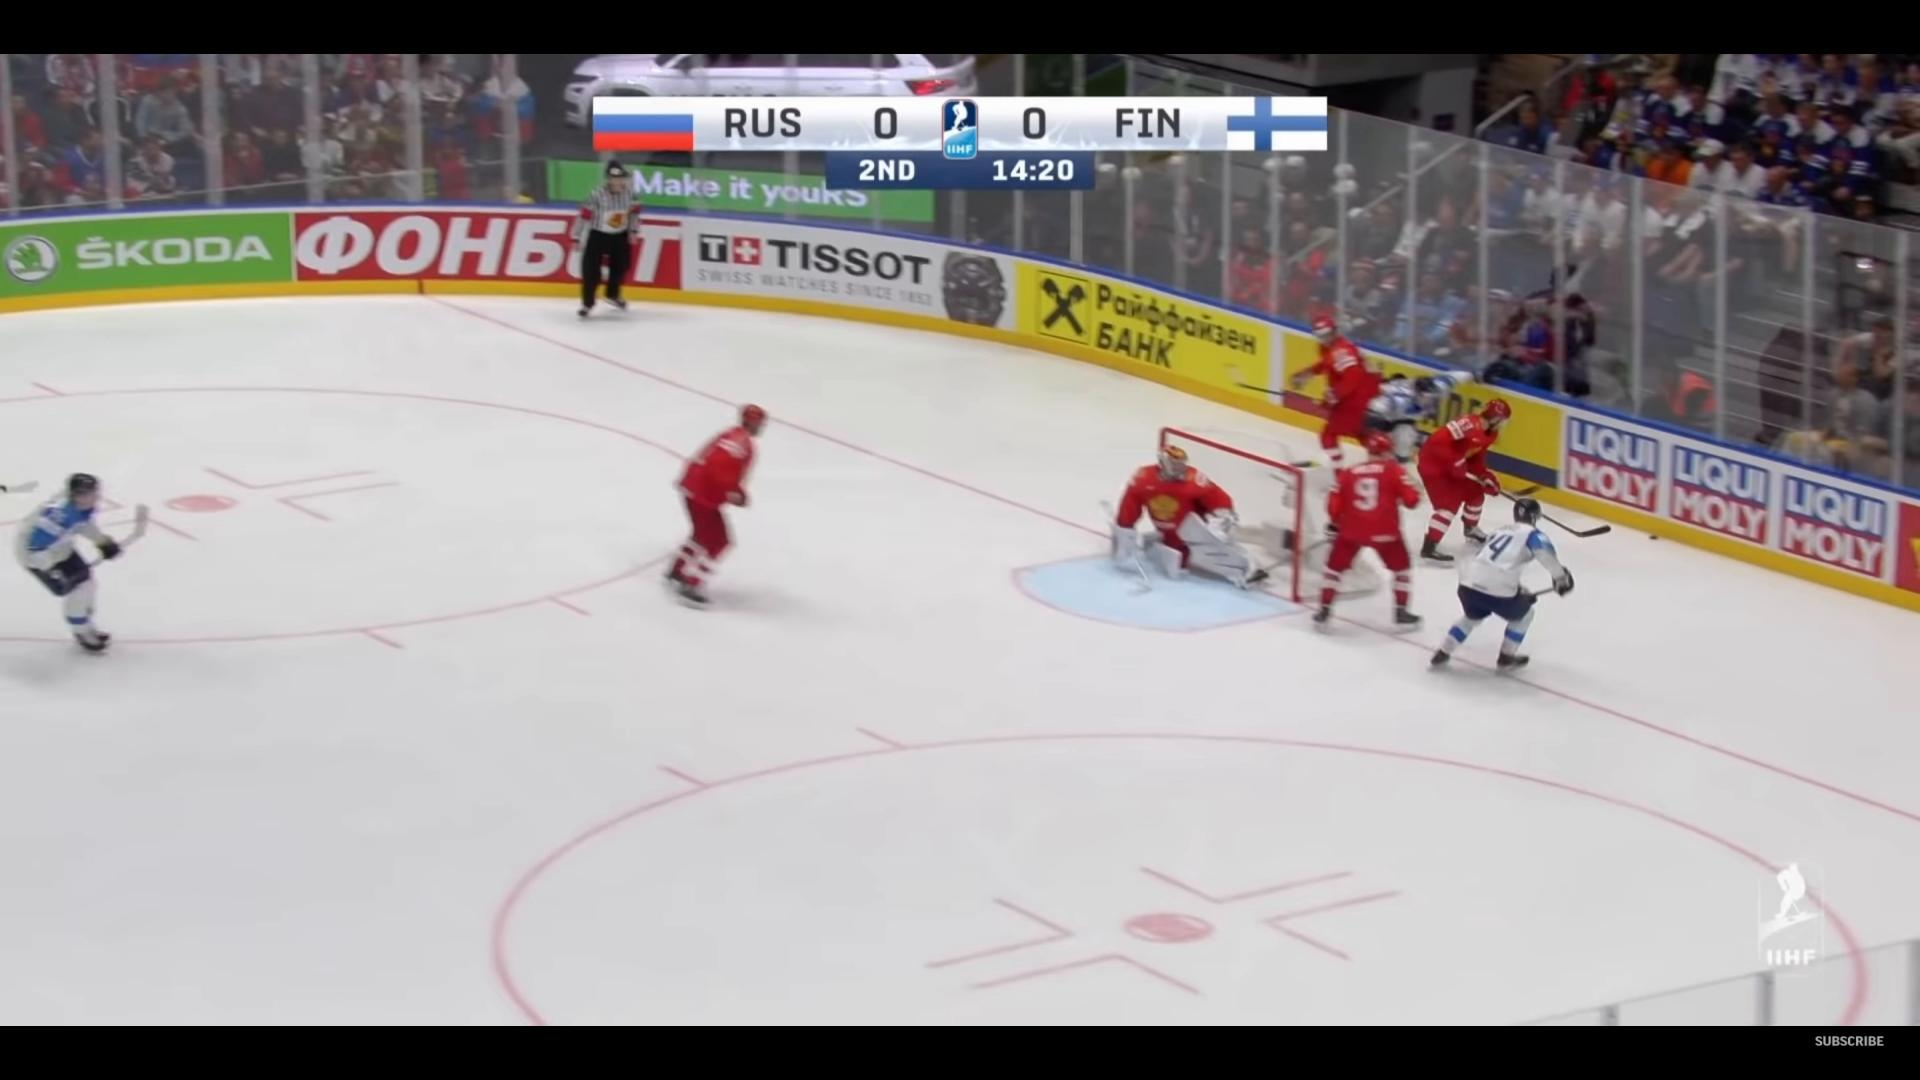puck: (1647, 534, 1658, 539)
